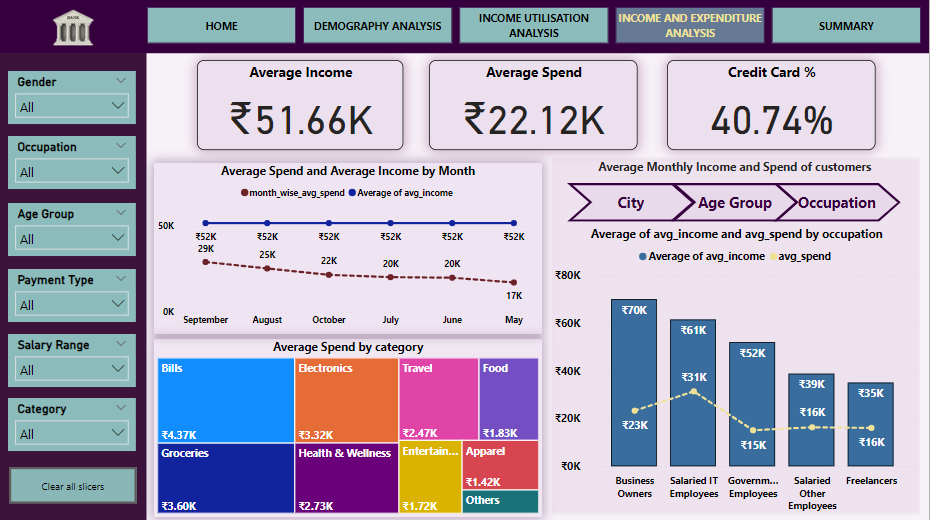

Layout of this report page (visuals, bound fields, positions):
{"tool":"powerbi","page":{"name":"INCOME AND EXPENDITURE ANALYSIS","canvas":[1280,720],"ordinal":3},"visuals":[{"type":"shape","box":[757.4,216,514.1,498.2],"z":0},{"type":"shape","box":[0,0,1280.2,76.3],"z":1000},{"type":"pageNavigator","box":[203,13,1065.6,50.4],"z":2000},{"type":"image","box":[56.2,7.2,90.7,69.1],"z":3000},{"type":"shape","box":[0,76.3,203,643.7],"z":4000},{"type":"slicer","fields":{"Values":["dim_customers.gender"]},"box":[13,100.8,175.7,73.4],"z":5000},{"type":"actionButton","box":[14.4,645.1,175.7,50.4],"z":6000},{"type":"slicer","fields":{"Values":["dim_customers.occupation"]},"box":[13,190.1,175.7,73.4],"z":7000},{"type":"slicer","fields":{"Values":["dim_customers.age_group"]},"box":[13,282.2,175.7,73.4],"z":8000},{"type":"card","title":"Average Income ","fields":{"Values":["Avg(dim_customers.avg_income)"]},"box":[272.2,85,283.7,123.8],"z":9000},{"type":"slicer","fields":{"Values":["fact_spends.payment_type"]},"box":[13,373,175.7,73.4],"z":10000},{"type":"card","title":"Average Spend","fields":{"Values":["ALL Measures.avg_spend"]},"box":[591.8,85,286.6,123.8],"z":11000},{"type":"slicer","fields":{"Values":["dim_customers.Salary Range"]},"box":[13,462.2,175.7,73.4],"z":12000},{"type":"slicer","fields":{"Values":["fact_spends.category"]},"box":[13,550.1,175.7,73.4],"z":13000},{"type":"lineStackedColumnComboChart","fields":{"Category":["dim_customers.occupation"],"Y2":["ALL Measures.avg_spend"],"Y":["Avg(dim_customers.avg_income)"]},"box":[760.3,313.9,511.2,400.3],"z":14000},{"type":"card","title":"Credit Card %","fields":{"Values":["ALL Measures.Credit_Card%"]},"box":[918.7,85,286.6,123.8],"z":17000},{"type":"treemap","title":"Average Spend by category","fields":{"Group":["fact_spends.category"],"Values":["ALL Measures.avg_spend"]},"box":[213.1,469.4,534.2,244.8],"z":18000},{"type":"lineChart","title":"Average Spend and Average Income by Month","fields":{"Category":["fact_spends.month"],"Y":["ALL Measures.month_wise_avg_spend","Avg(dim_customers.avg_income)"]},"box":[213.1,227.5,534.2,234.7],"z":19000},{"type":"actionButton","box":[781.9,254.9,175.7,53.3],"z":20000},{"type":"actionButton","box":[924.5,254.9,175.7,53.3],"z":21000},{"type":"actionButton","box":[1065.6,254.9,175.7,53.3],"z":22000},{"type":"textbox","box":[757.4,216,511.2,36],"z":23000}]}

Visuals, with their boxes in screenshot pixels (x1, y1, x2, y2), scaled from the page's 1280x720 canvas onto the 930x520 screenshot:
shape: select_region(550, 156, 924, 516)
shape: select_region(0, 0, 929, 55)
pageNavigator: select_region(147, 9, 922, 46)
image: select_region(41, 5, 107, 55)
shape: select_region(0, 55, 147, 519)
slicer - dim_customers.gender: select_region(9, 73, 137, 126)
actionButton: select_region(10, 466, 138, 502)
slicer - dim_customers.occupation: select_region(9, 137, 137, 190)
slicer - dim_customers.age_group: select_region(9, 204, 137, 257)
"Average Income " card: select_region(198, 61, 404, 151)
slicer - fact_spends.payment_type: select_region(9, 269, 137, 322)
"Average Spend" card: select_region(430, 61, 638, 151)
slicer - dim_customers.Salary Range: select_region(9, 334, 137, 387)
slicer - fact_spends.category: select_region(9, 397, 137, 450)
lineStackedColumnComboChart - dim_customers.occupation x ALL Measures.avg_spend: select_region(552, 227, 924, 516)
"Credit Card %" card: select_region(667, 61, 876, 151)
"Average Spend by category" treemap: select_region(155, 339, 543, 516)
"Average Spend and Average Income by Month" lineChart: select_region(155, 164, 543, 334)
actionButton: select_region(568, 184, 696, 223)
actionButton: select_region(672, 184, 799, 223)
actionButton: select_region(774, 184, 902, 223)
textbox: select_region(550, 156, 922, 182)
